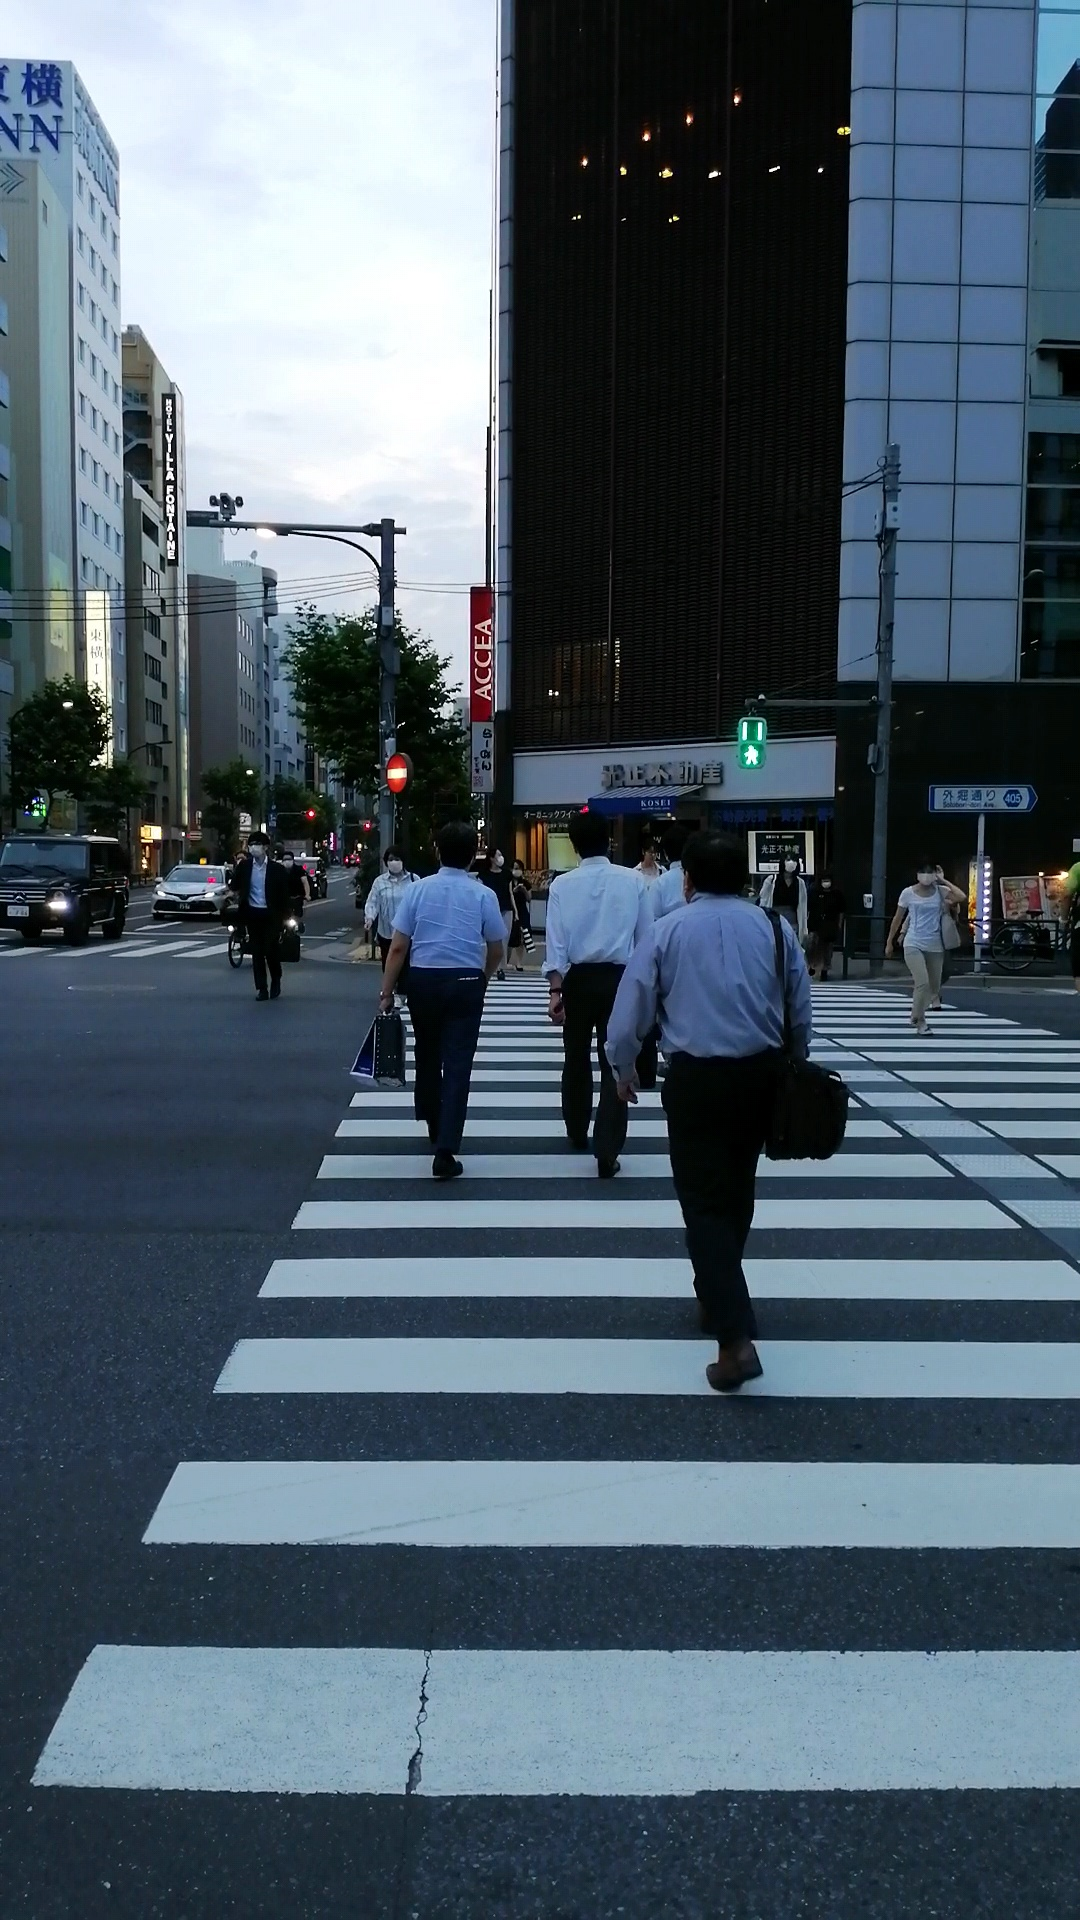green: (735, 715, 766, 771)
